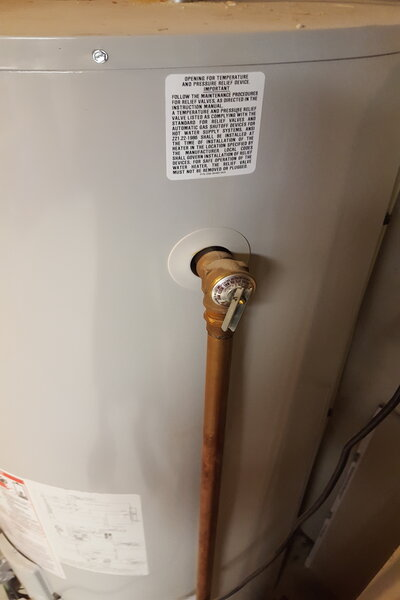valve: (194, 245, 258, 356)
